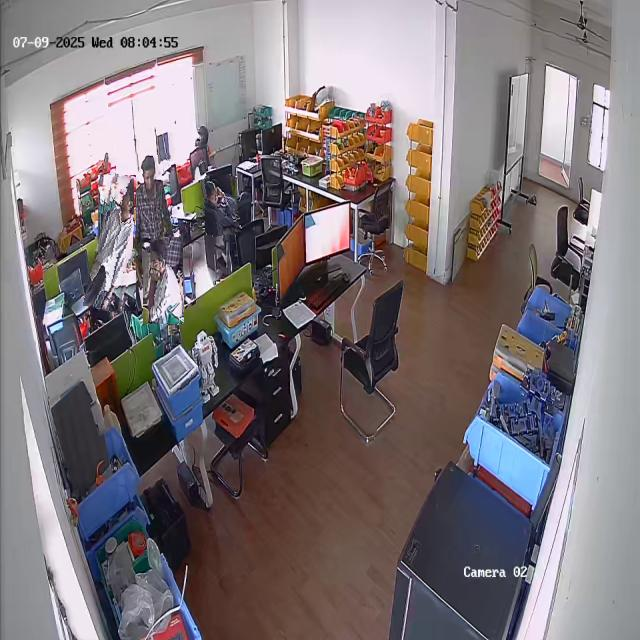person: (91, 174, 143, 313), (134, 154, 171, 251), (143, 238, 183, 324), (202, 175, 240, 236)
